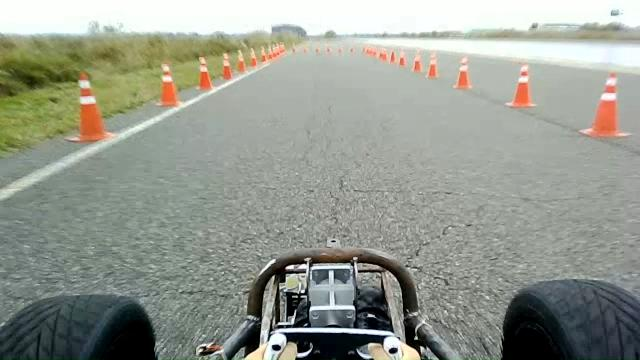red cone: (65, 71, 116, 143), (579, 72, 630, 138), (505, 63, 537, 108), (156, 62, 180, 107), (452, 55, 472, 89), (196, 56, 214, 91), (426, 50, 438, 78), (221, 52, 232, 80), (236, 49, 247, 73), (412, 50, 422, 72), (250, 47, 258, 67), (398, 49, 406, 66), (260, 46, 267, 63), (389, 50, 396, 63)
